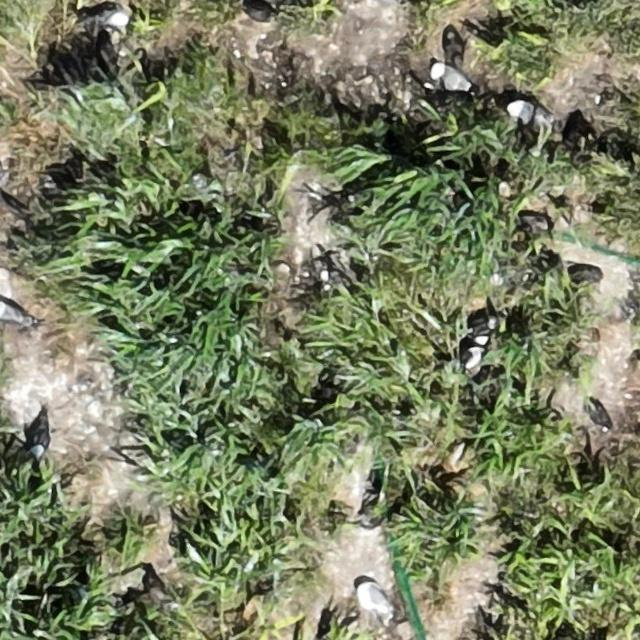umineko: (356, 580, 394, 624), (434, 64, 470, 90), (507, 100, 539, 123), (32, 422, 49, 456), (1, 302, 26, 325)
